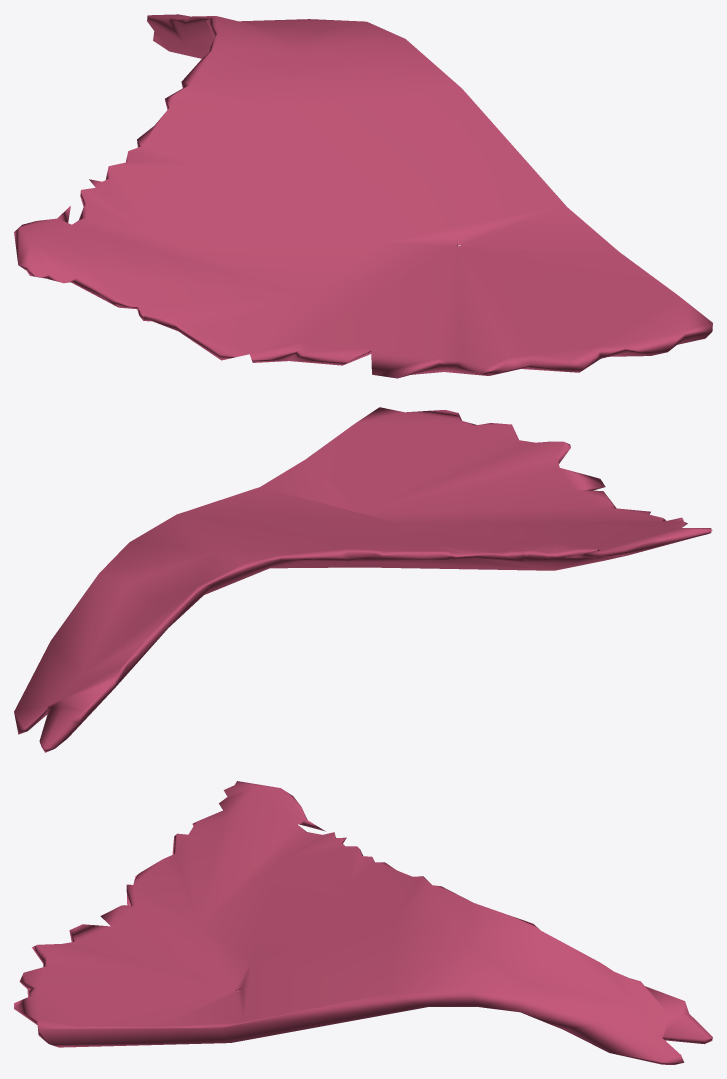
3 renders of one model, top to bottom at view 1: azimuth 30°, elevation 25°; view 2: azimuth 150°, elevation 25°; view 3: azimuth 270°, elevation 25°, orthographic. The views are drawn at different scales.
Parts seen in each view (by area): view 1: 右侧降眉间肌; view 2: 右侧降眉间肌; view 3: 右侧降眉间肌.
Part boxes in pixels (left/top/right/bottom): 右侧降眉间肌: left=14, top=14, right=712, bottom=378; 右侧降眉间肌: left=14, top=407, right=712, bottom=752; 右侧降眉间肌: left=14, top=781, right=712, bottom=1064.
Size of the model in its own units: 0.0342 by 0.00897 by 0.0538.
